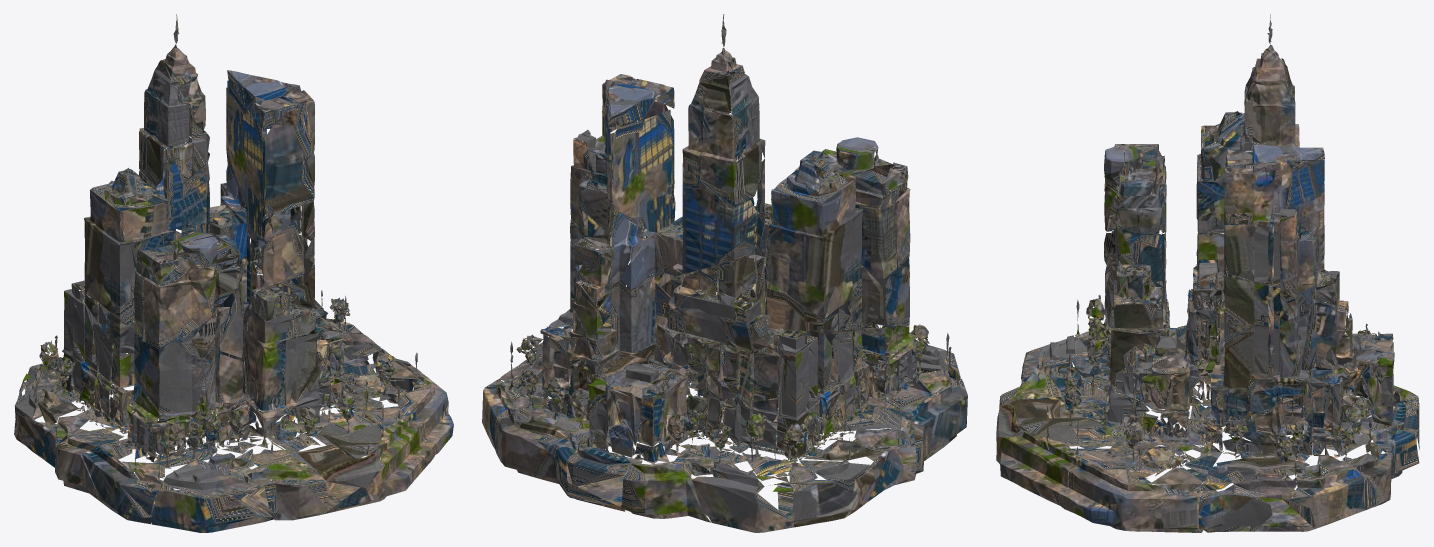
The model's file is co_marquis.glb.
The picture shows the model from 3 angles, left to right: view 1: azimuth 30°, elevation 25°; view 2: azimuth 150°, elevation 25°; view 3: azimuth 270°, elevation 25°; orthographic projection. The views are drawn at different scales.
Visible parts, largest first — view 1: marquis; view 2: marquis; view 3: marquis.
Boxes of the visible parts, x1,y1,x2,y2 form: marquis: (14, 14, 453, 532); marquis: (482, 14, 967, 532); marquis: (996, 14, 1419, 532).
Size of the model in its own units: 1.69 by 1.89 by 1.71.
Materials: 1 (1 with a texture image).
